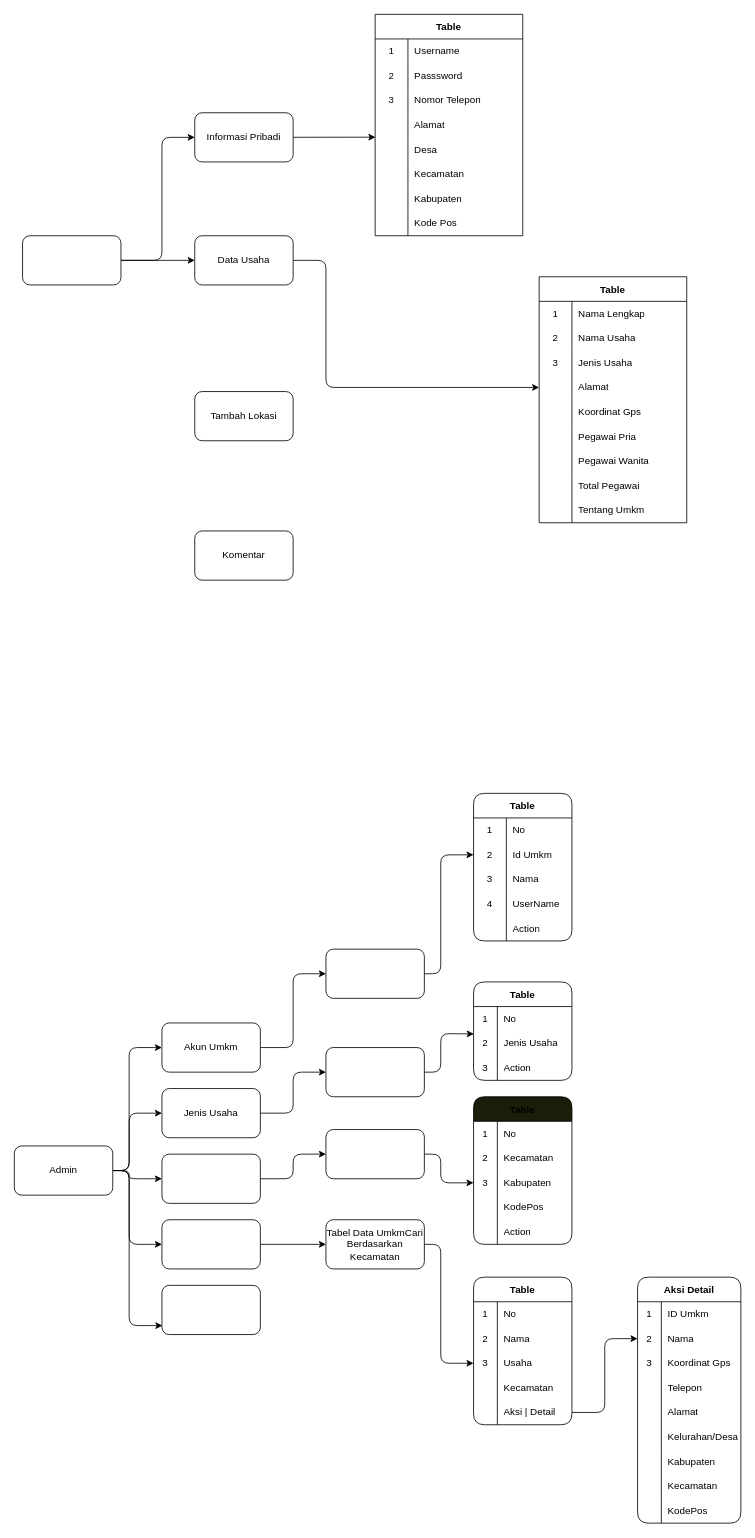
Some shapes in this 755 by 1538 pixel diagram are drawn without their labels. Here are the shapes that lost their labels. From the top down, the centre of each, then its label:
At (71,260): "User".
At (374,973): "Melihat Pengguna Dan Menghapus".
At (374,1072): "Tambah Jenis Usaha".
At (374,1154): "Tambah Edit Hapus Wilayah Umkm".
At (210,1178): "Wilayah Umkm".
At (210,1244): "Laporan data umkm".
At (210,1310): "Laporan Data Keuangan".
